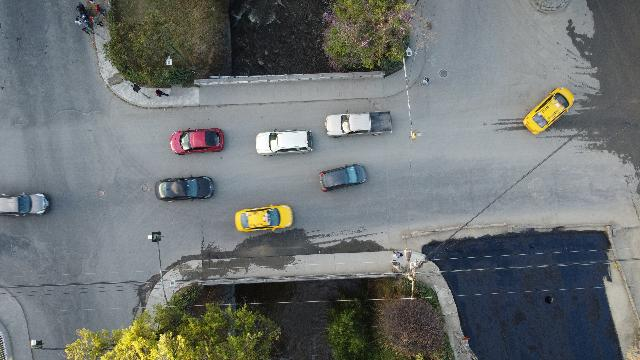Vehiculo: (524, 87, 574, 134), (325, 111, 393, 137), (256, 128, 312, 156), (235, 204, 293, 231), (170, 128, 224, 154), (155, 176, 213, 200), (319, 163, 366, 191), (0, 193, 50, 215)
